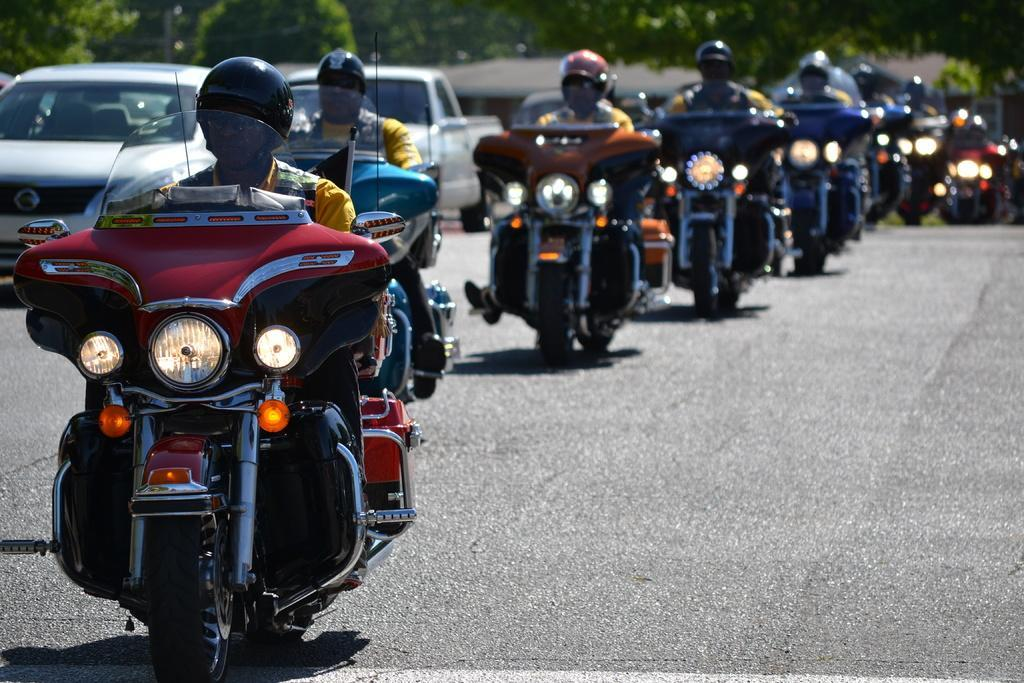helmet: (193, 54, 296, 172), (315, 48, 368, 124), (558, 47, 612, 119), (694, 38, 737, 84), (796, 48, 833, 92)
